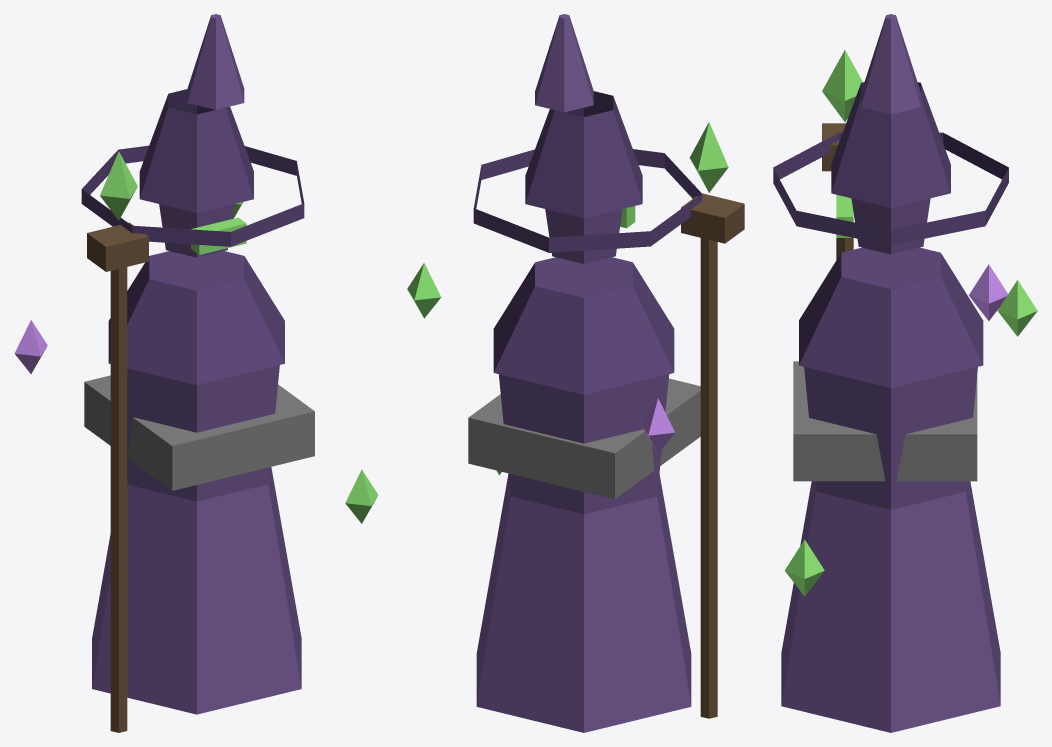
Rendered from hex-witch.obj.
3 views of the same model, side by side, from view 1: azimuth 30°, elevation 25°; view 2: azimuth 150°, elevation 25°; view 3: azimuth 270°, elevation 25° (orthographic). The views are drawn at different scales.
Parts seen in each view (by area): view 1: hex-witch; view 2: hex-witch; view 3: hex-witch.
Boxes of the visible parts, x1,y1,x2,y2 form: hex-witch: (14, 14, 378, 732); hex-witch: (407, 14, 744, 732); hex-witch: (773, 14, 1037, 732).
Bounding box in the file's own units: 1.16 × 2.68 × 0.9195.
